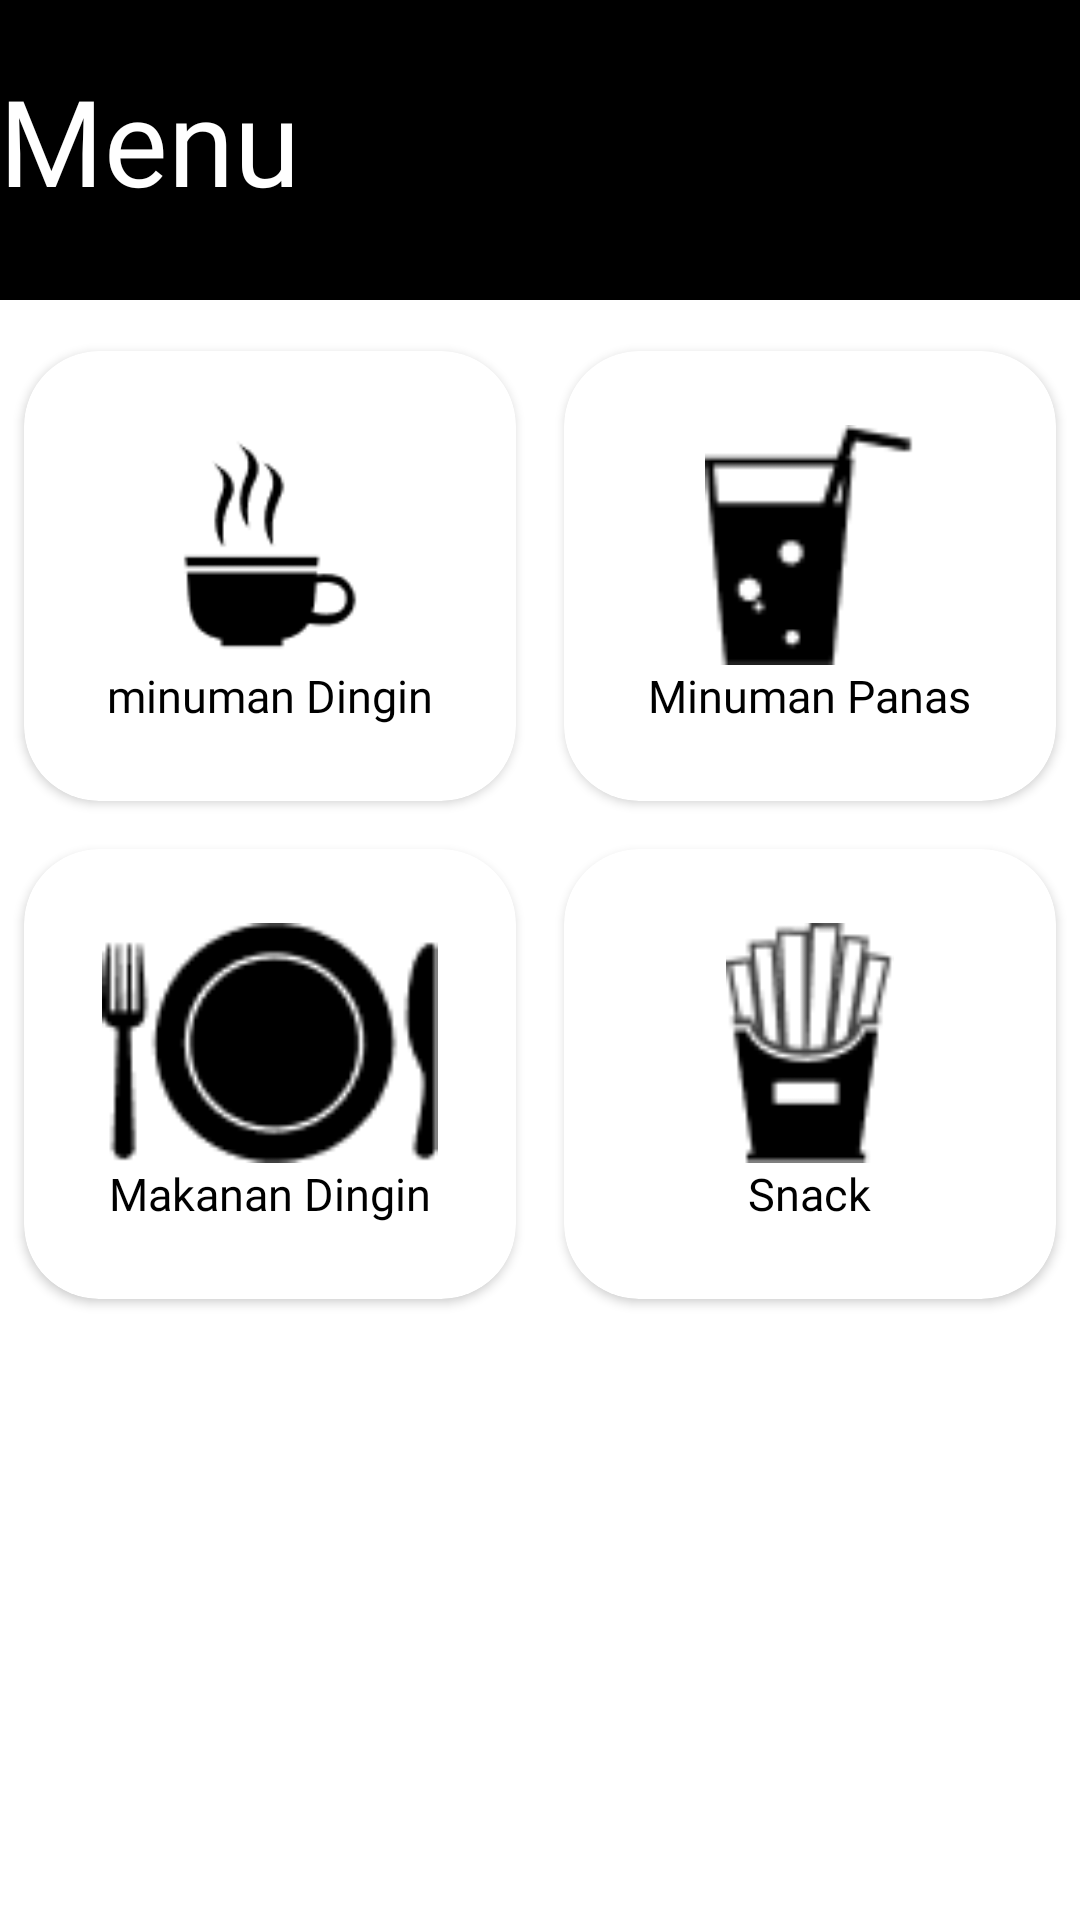

Icons on this 1080px×1920px Android screen, each with its box as [x1,y1,x2,y2]:
coffe hangat: [184,444,357,648]
minuman dingin: [705,425,912,665]
